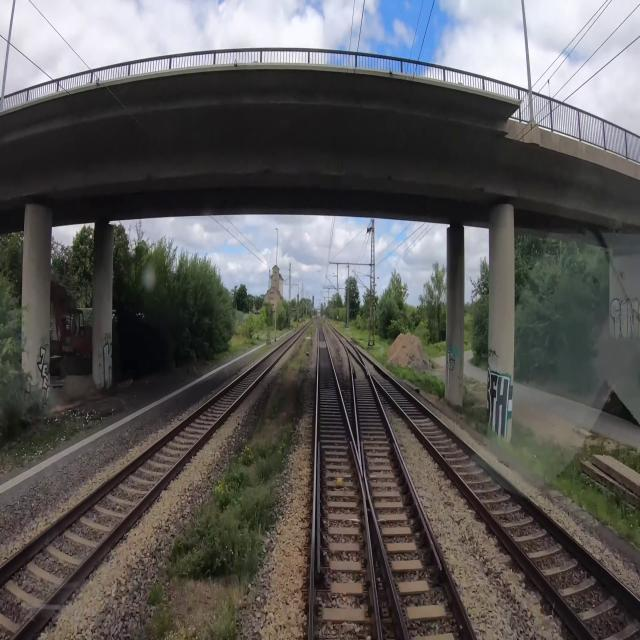Plant: (133, 327, 316, 639)
